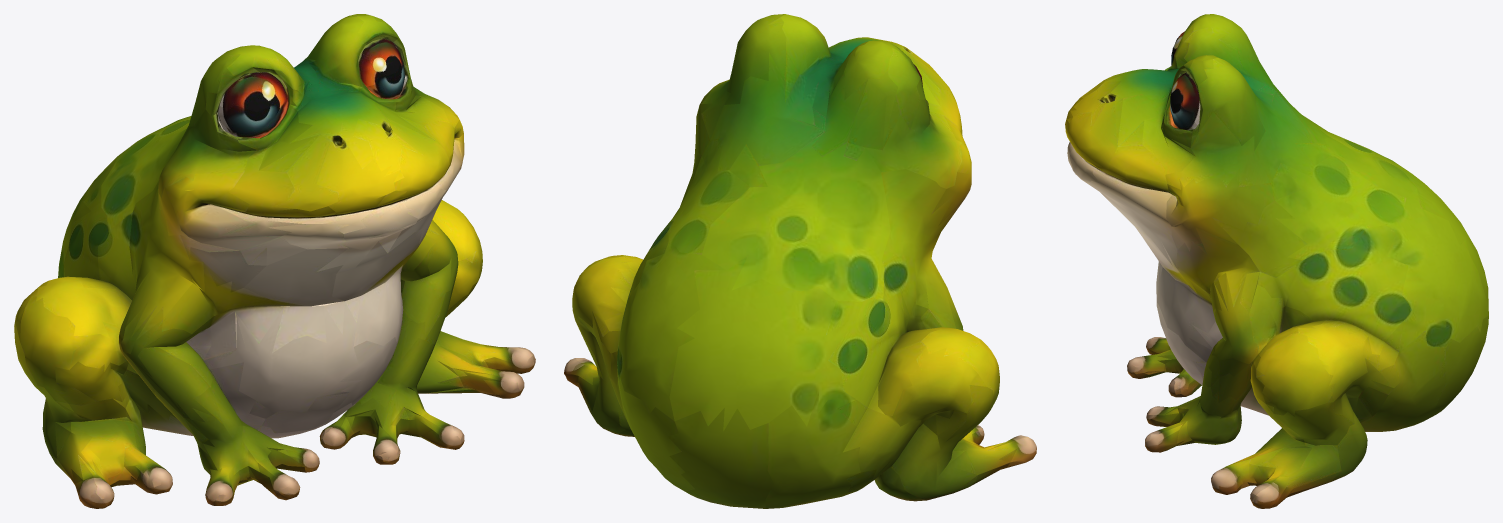
Rendered from frog.glb.
The picture shows the model from 3 angles, left to right: view 1: azimuth 30°, elevation 25°; view 2: azimuth 150°, elevation 25°; view 3: azimuth 270°, elevation 25°; orthographic projection. The views are drawn at different scales.
Size of the model in its own units: 1.9 by 1.56 by 1.65.
1 material, 1 textured.
